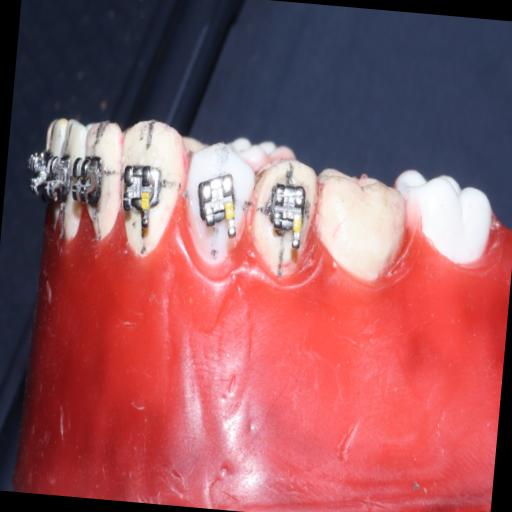correct_brace: (180, 142, 254, 263)
incorrect_brace: (193, 172, 240, 231)
